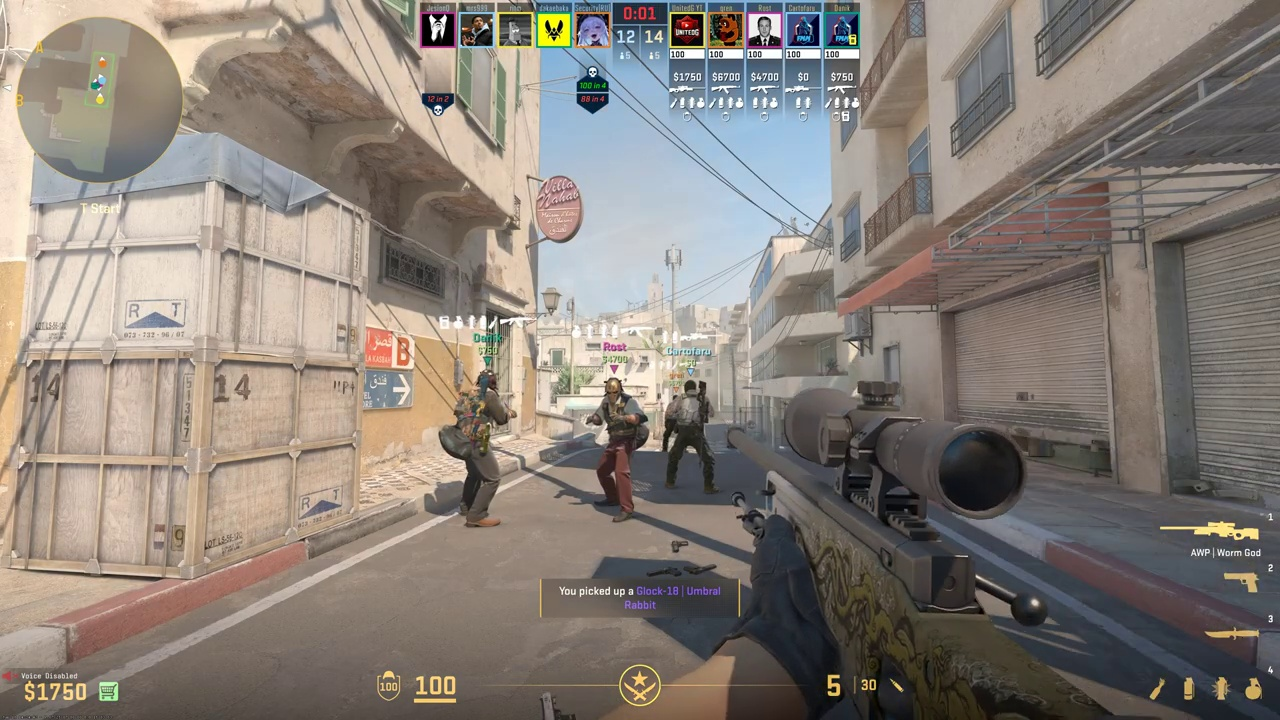Terrorist: (451, 370, 504, 528), (592, 377, 638, 520), (670, 380, 715, 494)
